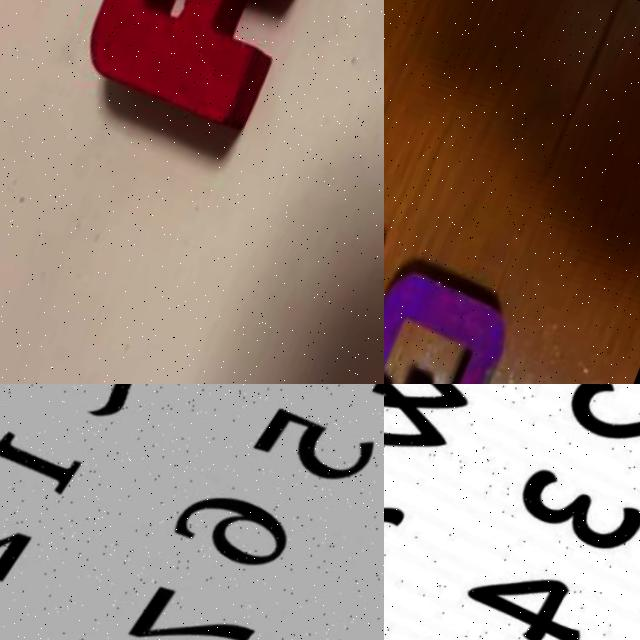1: (0, 403, 102, 517)
2: (530, 384, 640, 496), (0, 474, 58, 605)
3: (491, 446, 640, 583)
4: (439, 530, 616, 640)
5: (226, 384, 384, 523)
6: (142, 454, 321, 604)
7: (96, 551, 279, 640)
A: (68, 0, 347, 149)
G: (384, 244, 527, 384)
